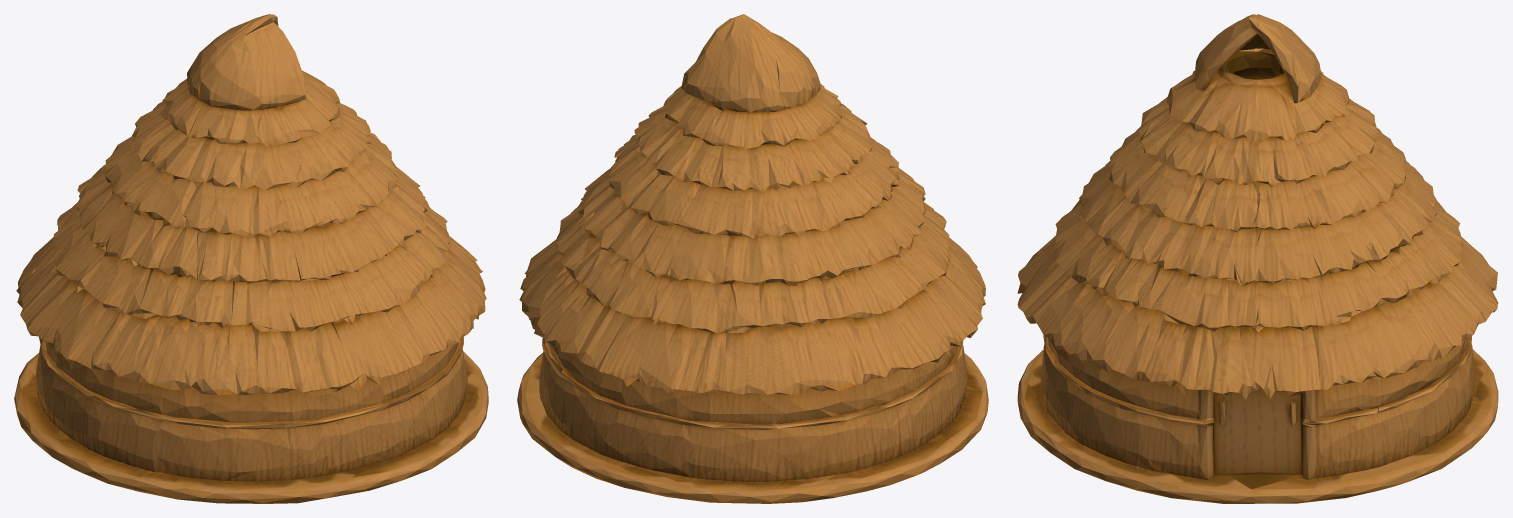
File: ruka_hulliche.glb
3 renders of one model, left to right at view 1: azimuth 30°, elevation 25°; view 2: azimuth 150°, elevation 25°; view 3: azimuth 270°, elevation 25°, orthographic. The views are drawn at different scales.
Parts seen in each view (by area): view 1: tripo_node_2bd6214c-07ec-4916-89d4-688f64862b40; view 2: tripo_node_2bd6214c-07ec-4916-89d4-688f64862b40; view 3: tripo_node_2bd6214c-07ec-4916-89d4-688f64862b40.
Boxes of the visible parts, left/top/right/bottom form: tripo_node_2bd6214c-07ec-4916-89d4-688f64862b40: left=14, top=14, right=488, bottom=503; tripo_node_2bd6214c-07ec-4916-89d4-688f64862b40: left=517, top=14, right=988, bottom=503; tripo_node_2bd6214c-07ec-4916-89d4-688f64862b40: left=1017, top=14, right=1498, bottom=503.
Size of the model in its own units: 1 by 0.906 by 0.9997.
1 material, 1 textured.
